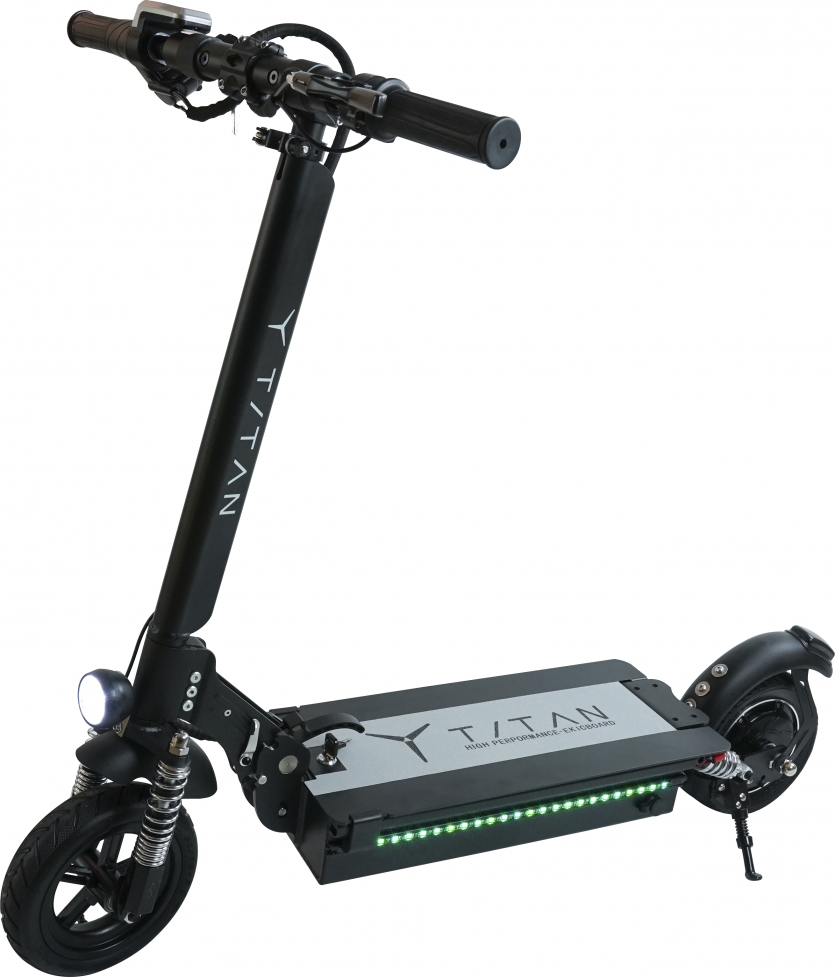scooter: (9, 7, 835, 977)
